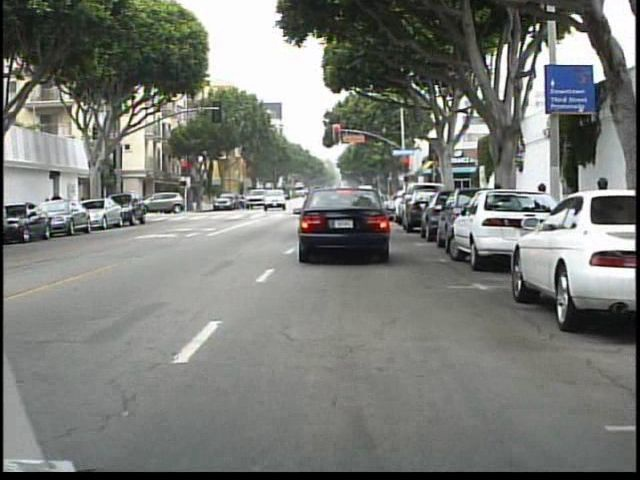person: (47, 188, 65, 226), (148, 190, 163, 218)
